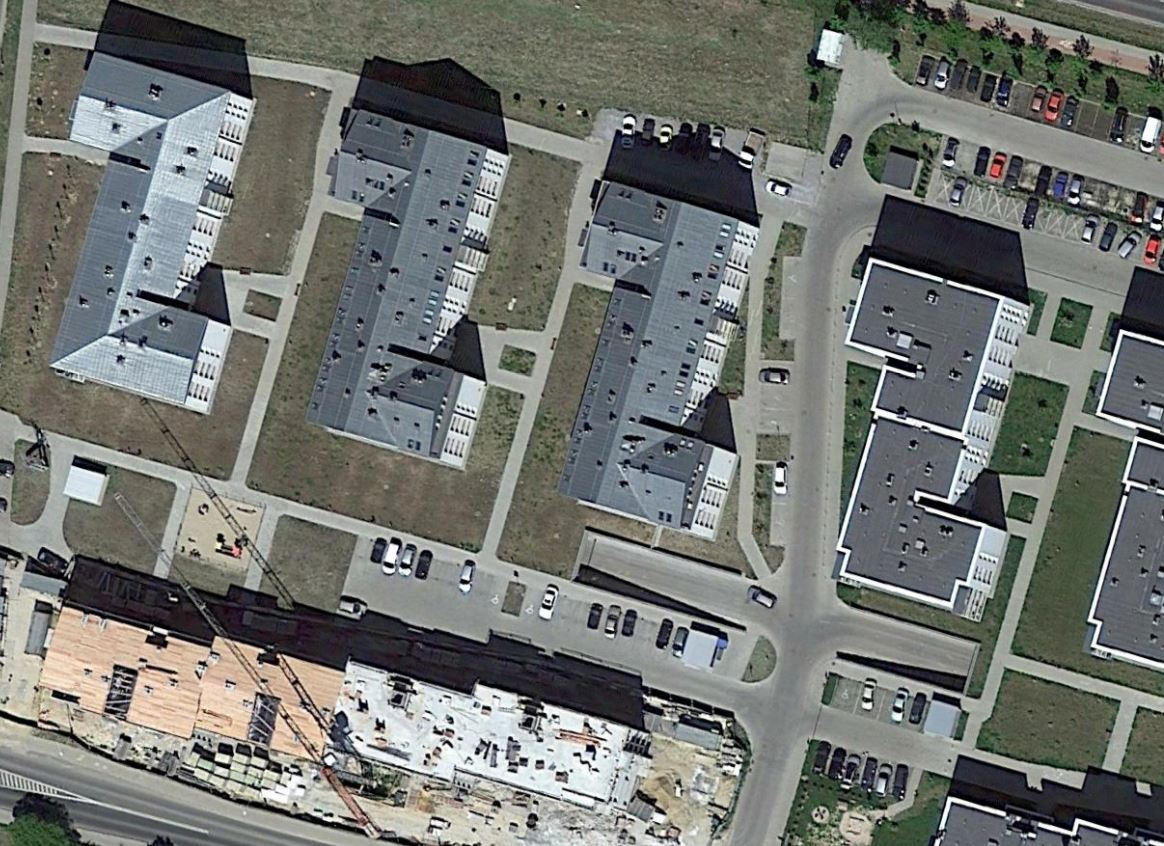block of flats: (24, 596, 677, 836), (40, 40, 270, 407), (547, 171, 766, 546), (302, 102, 522, 474), (823, 252, 1039, 627), (1083, 318, 1164, 691)
